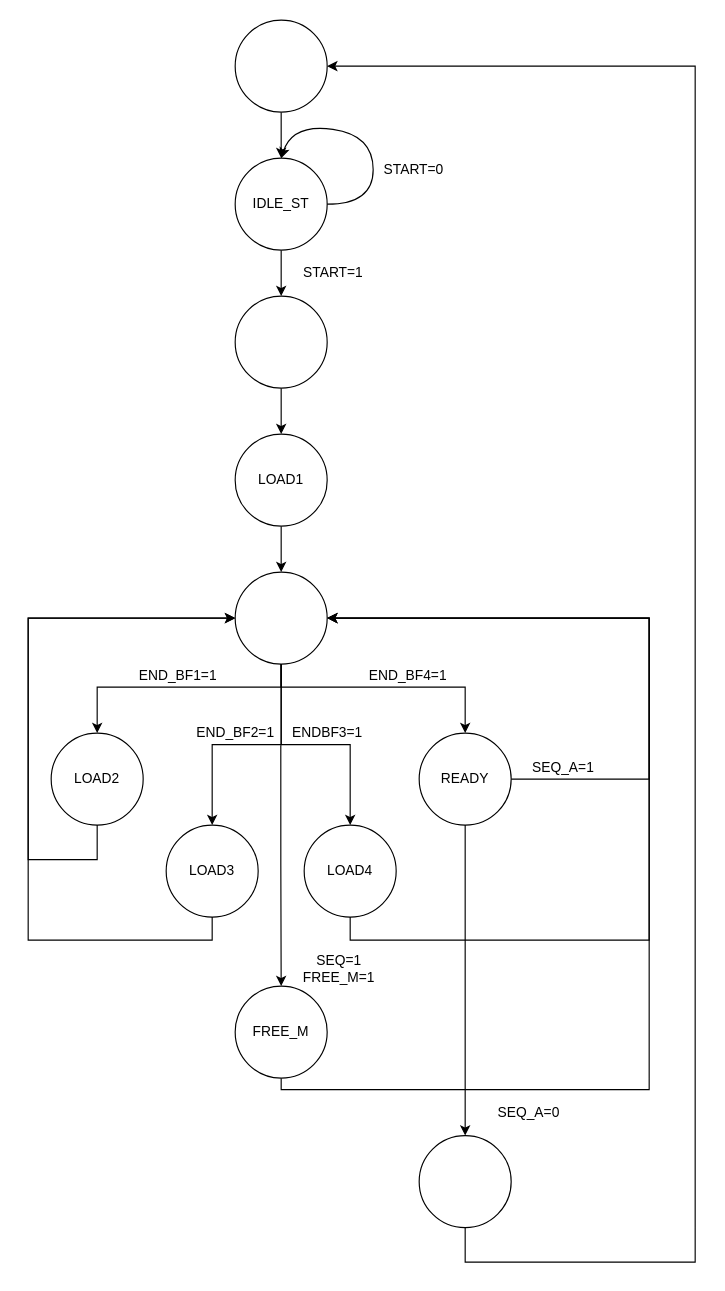
Some shapes in this 725 by 1291 pixel diagram are drawn without their labels. Each missing label, with the centre of its shape:
DONE: the point at 464,1181
RESET: the point at 280,65
START_ST: the point at 280,341
WORK: the point at 280,617
